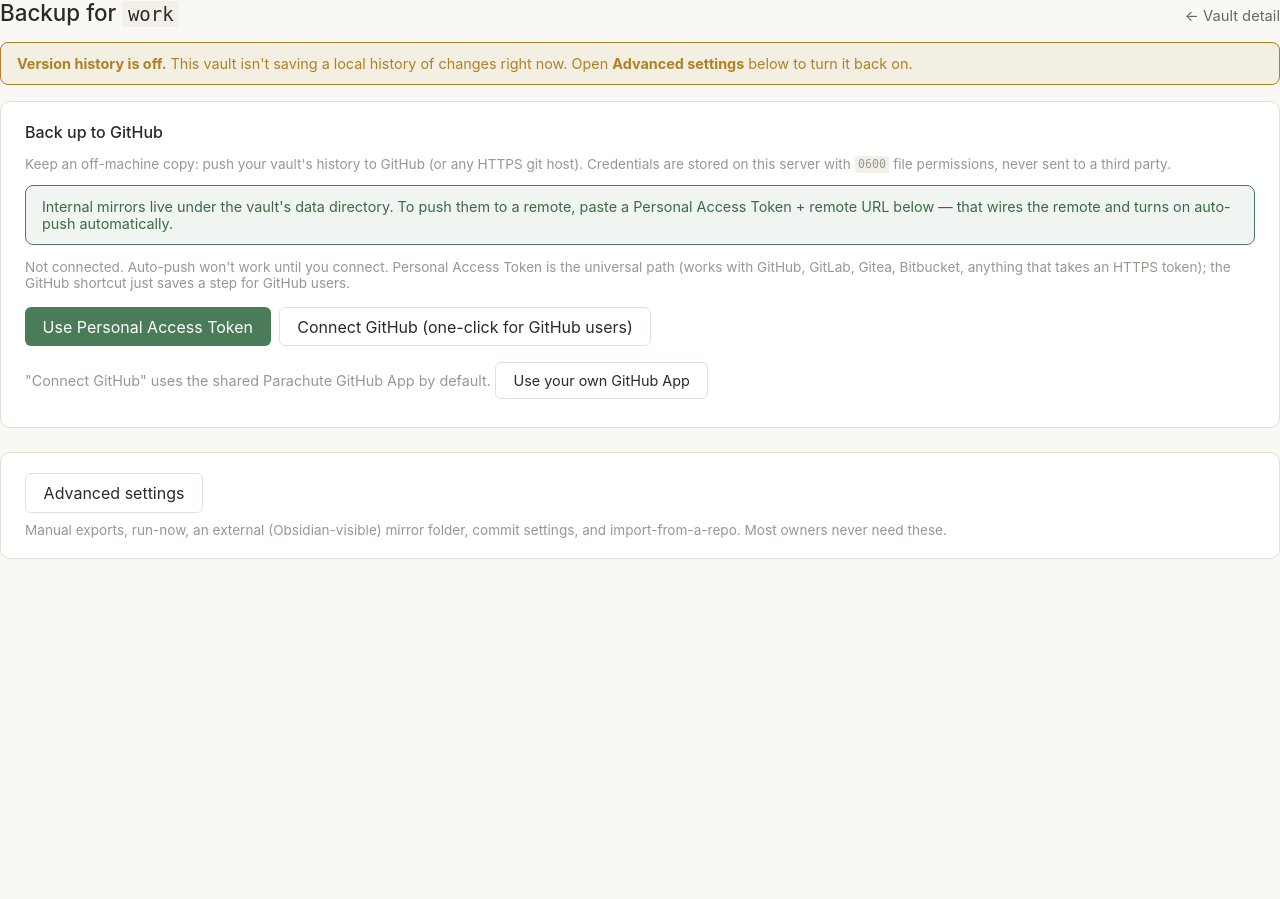
Test: VaultMirror — admin scope › clicking a preset card pre-fills the form fields
This screenshot has width=1280, height=899.
What coordinates should you click on to do the following:
click the button "Advanced settings"
I would click on:
 (114, 493)
Its box is [25, 473, 203, 513].
(page scrolled)
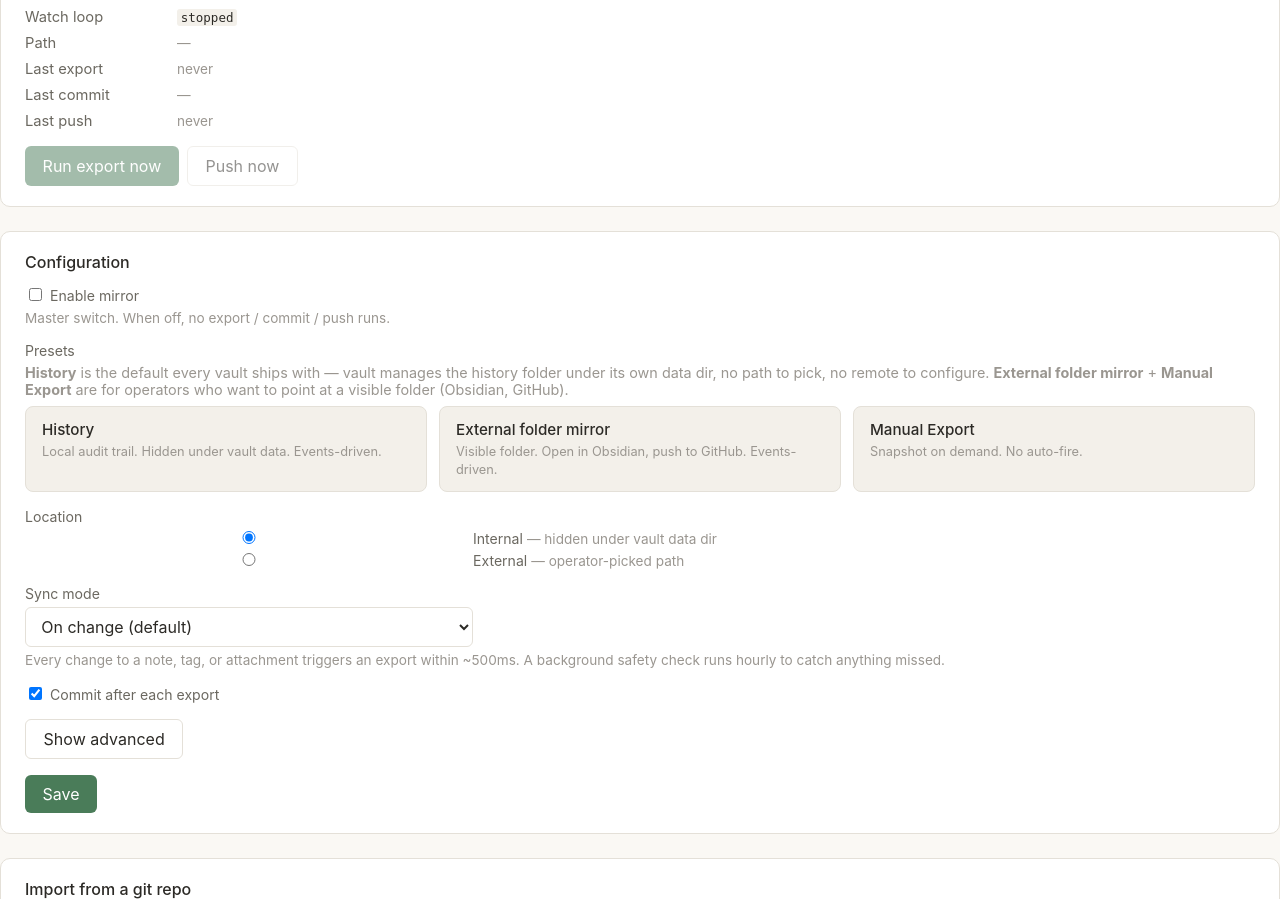
Now the heading "Configuration" is shown, box [25, 252, 130, 272]
What coordinates should you click on to do the following:
click the button with aria-label "Apply History preset"
I would click on:
 (226, 449)
Its box is [25, 406, 427, 492].
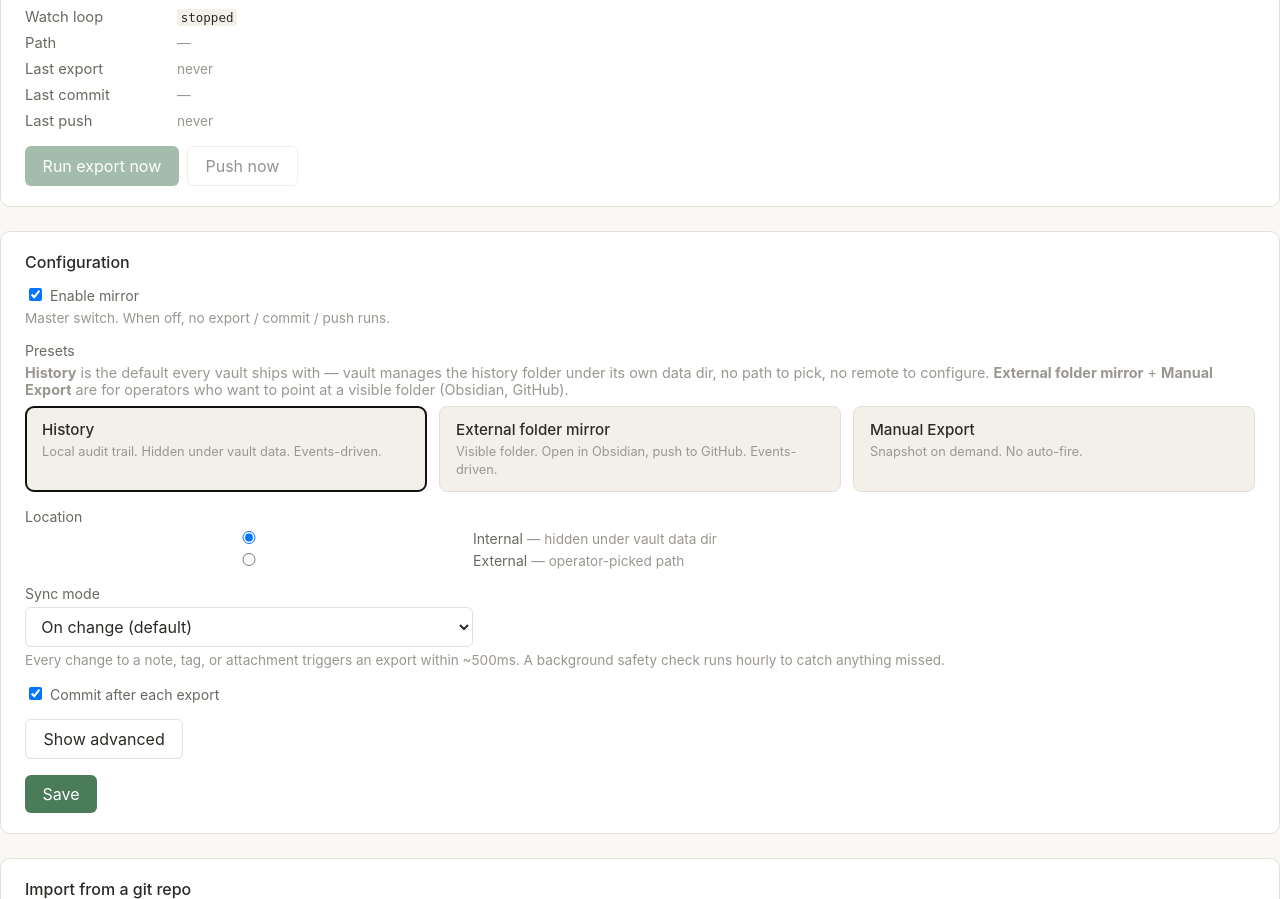
Now the dropdown labelled "Sync mode" shows "On change (default)", box [25, 607, 473, 647]
Now the radio button labelled "Internal — hidden under vault data dir" is checked, box [25, 531, 473, 544]
Now the checkbox labelled "Enable mirror" is checked, box [29, 288, 42, 301]
